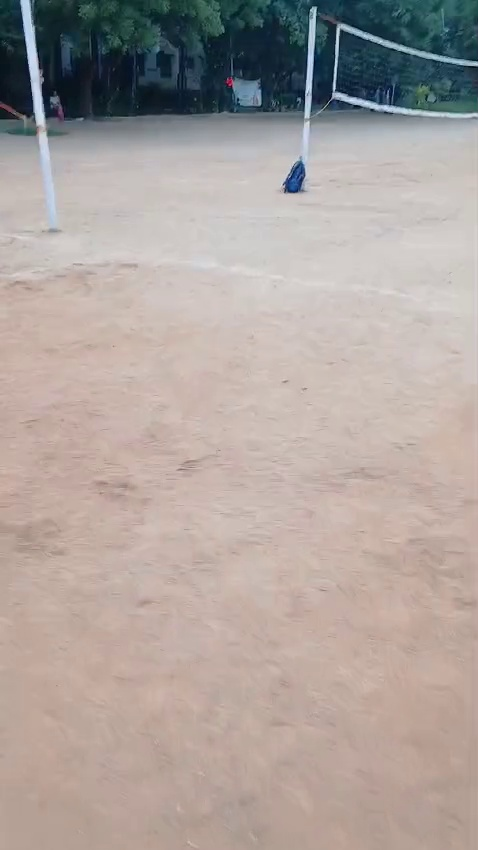bag: (277, 155, 312, 196)
